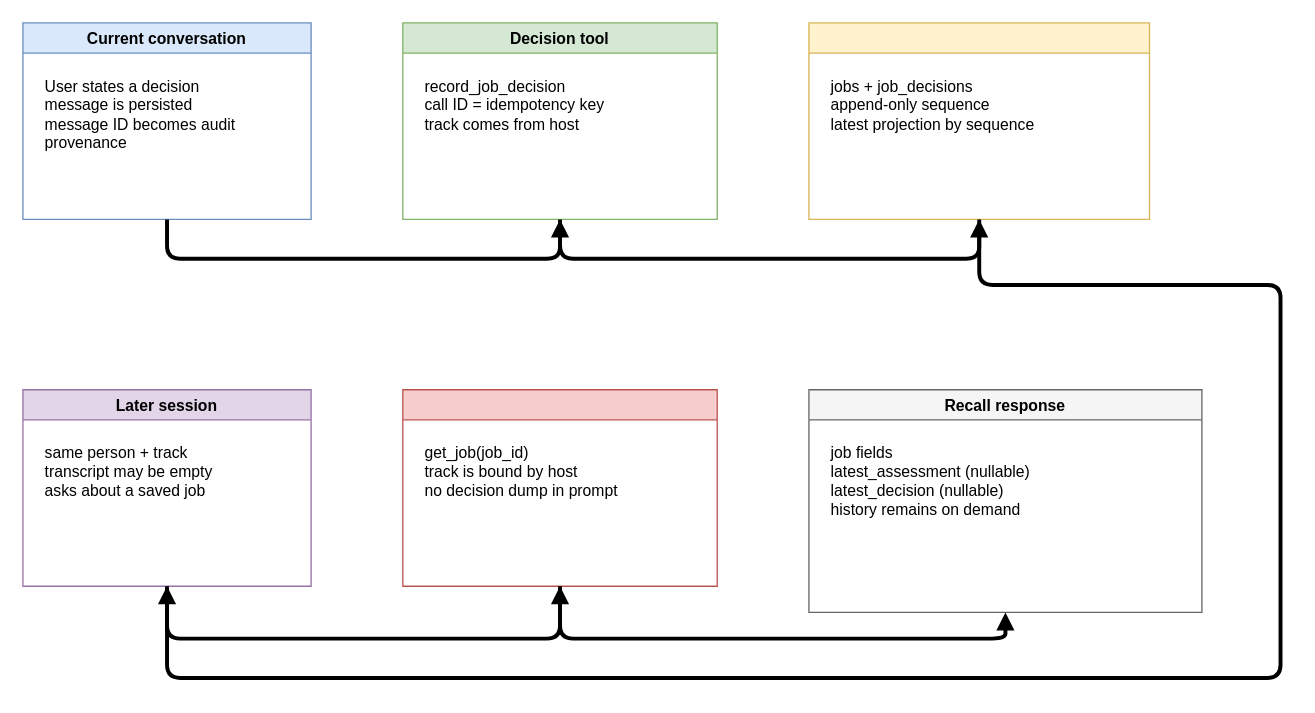
Image size: 1315x713. Some labels were removed from this diagram. The shapes that lost their labels are listed below. From the top down, each one's box as (x1, y1, x2, y2) in pixels, then its label:
(808, 22, 1150, 219): Employment store
(402, 388, 717, 586): Recall read
